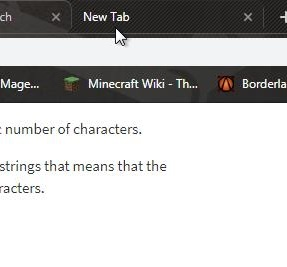cursor: (113, 25, 128, 48)
